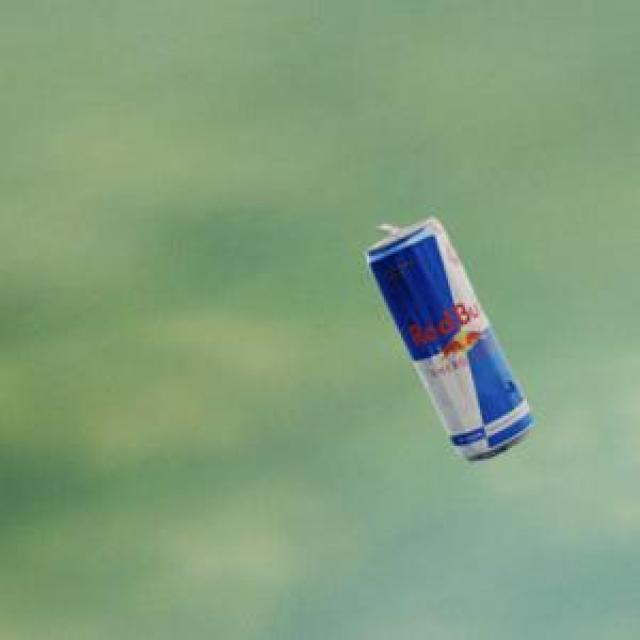Can: (362, 214, 530, 458)
